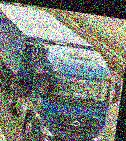truck: (0, 2, 126, 141)
